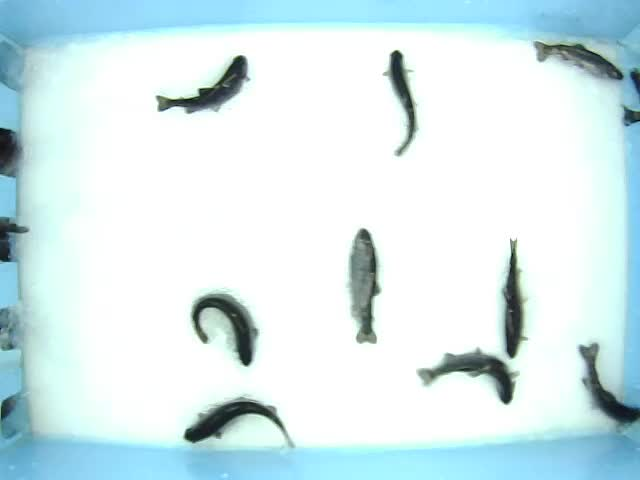fish: (176, 387, 305, 454), (150, 53, 250, 130), (413, 348, 522, 412), (176, 291, 269, 362), (573, 337, 640, 434), (348, 220, 384, 356), (382, 42, 423, 160), (502, 228, 534, 359)
